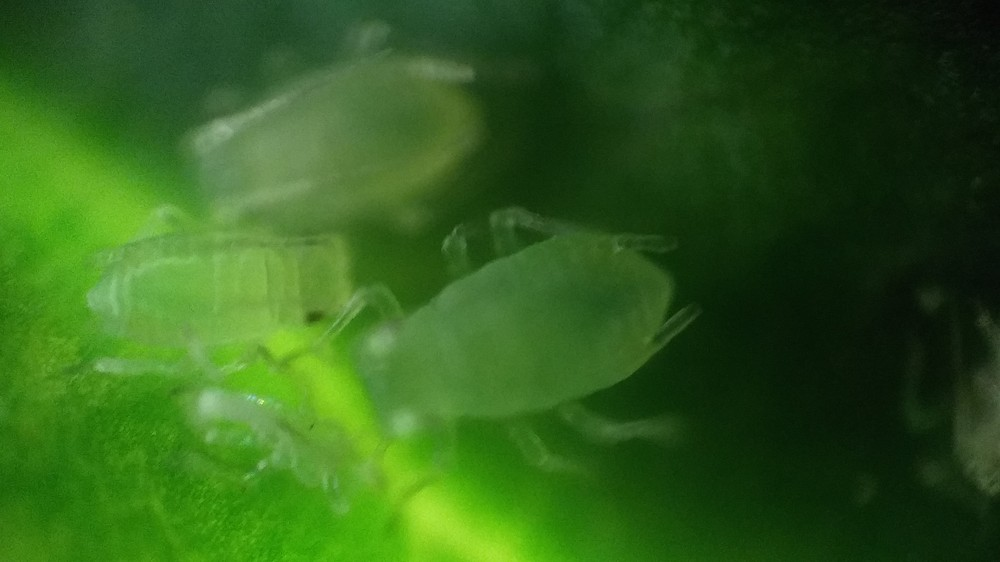Pulgon: (330, 199, 738, 493), (172, 22, 503, 249), (90, 195, 387, 423)
